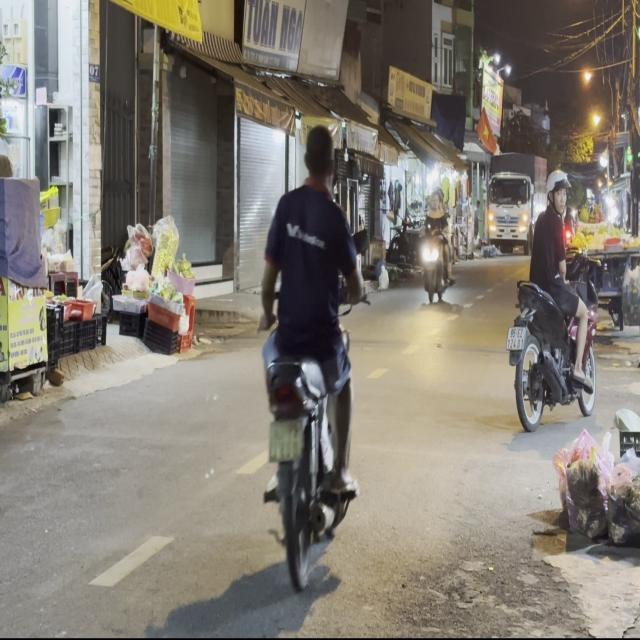helmet: (545, 168, 570, 212)
licenseplate: (254, 118, 365, 591), (505, 164, 599, 430)
motorcyclist: (301, 121, 335, 188)
nohelmet: (268, 419, 301, 459), (506, 326, 528, 348)
